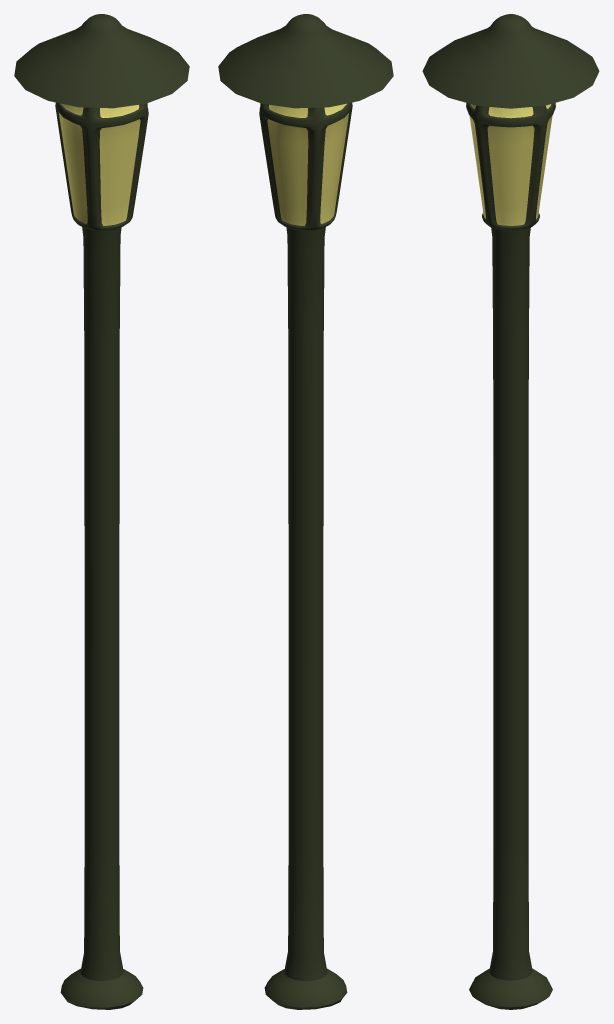
File: LampPostDES.fbx
The picture shows the model from 3 angles, left to right: view 1: azimuth 30°, elevation 25°; view 2: azimuth 150°, elevation 25°; view 3: azimuth 270°, elevation 25°; orthographic projection.
Parts seen in each view (by area): view 1: LampPost; view 2: LampPost; view 3: LampPost.
Part boxes in pixels (x1,y1,x2,y2): LampPost: [14, 14, 189, 1009]; LampPost: [218, 14, 393, 1009]; LampPost: [422, 14, 599, 1009].
Size of the model in its own units: 55.73 by 340 by 55.73.
